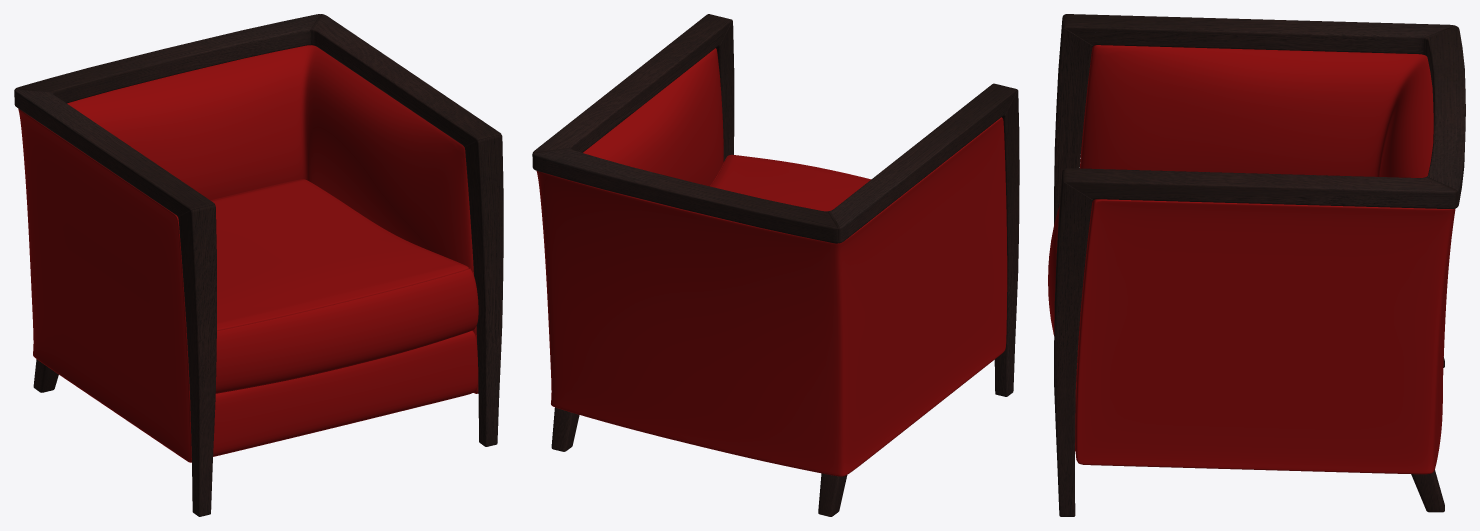
The picture shows the model from 3 angles, left to right: view 1: azimuth 30°, elevation 25°; view 2: azimuth 150°, elevation 25°; view 3: azimuth 270°, elevation 25°; orthographic projection. The views are drawn at different scales.
Parts seen in each view (by area): view 1: cgaxis_models_07_09_01, cgaxis_models_07_09_02; view 2: cgaxis_models_07_09_01, cgaxis_models_07_09_02; view 3: cgaxis_models_07_09_01, cgaxis_models_07_09_02.
Boxes of the visible parts, x1=… form: cgaxis_models_07_09_01: x1=18, y1=45, x2=478, y2=462; cgaxis_models_07_09_02: x1=14, y1=14, x2=503, y2=516; cgaxis_models_07_09_01: x1=536, y1=48, x2=1007, y2=476; cgaxis_models_07_09_02: x1=532, y1=14, x2=1019, y2=516; cgaxis_models_07_09_01: x1=1048, y1=45, x2=1455, y2=474; cgaxis_models_07_09_02: x1=1054, y1=14, x2=1465, y2=516.
Size of the model in its own units: 39.37 by 37.22 by 41.5.
2 materials, 1 textured.
